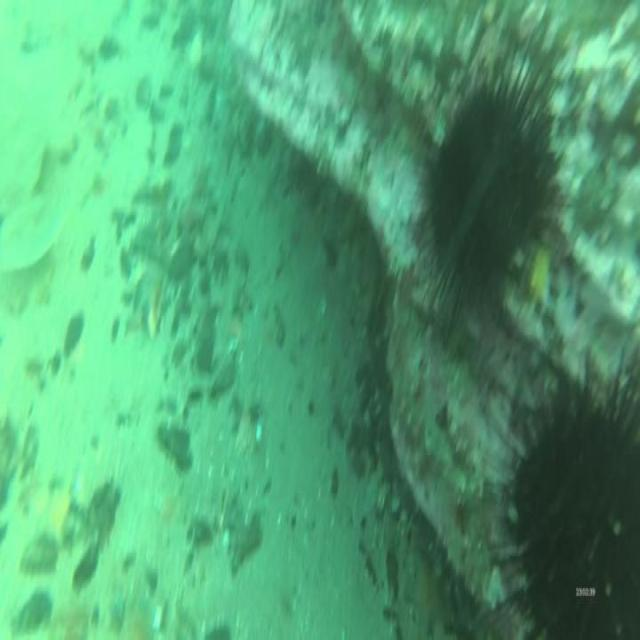echinus: (514, 393, 640, 640), (429, 87, 542, 311)
starfish: (403, 555, 453, 637)
